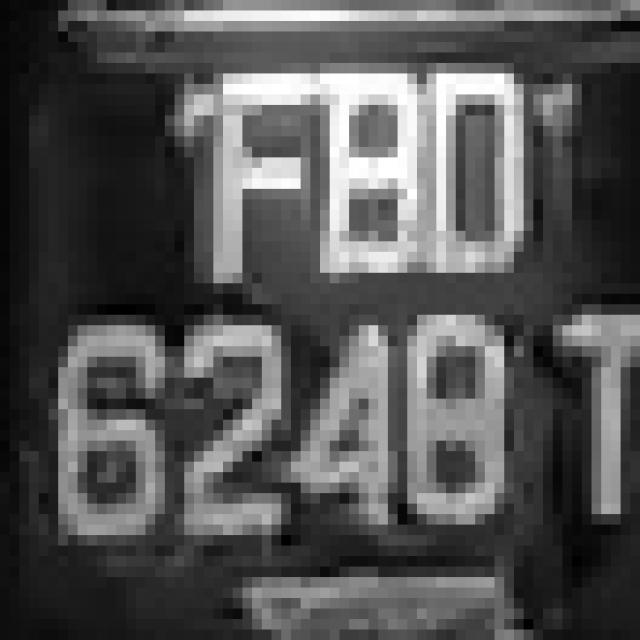2: (174, 273, 291, 556)
4: (291, 294, 417, 566)
6: (49, 304, 184, 577)
8: (408, 294, 534, 524)
B: (291, 42, 427, 325)
F: (174, 52, 330, 284)
O: (427, 63, 572, 304)
